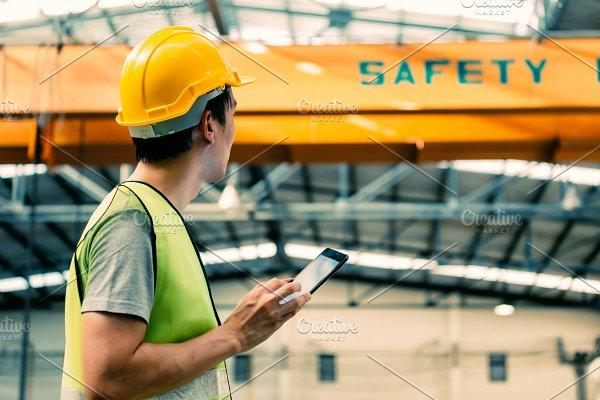helmet: (119, 26, 255, 126)
